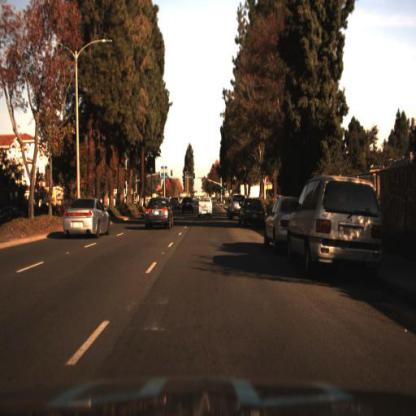car: (285, 178, 384, 281), (264, 195, 305, 250), (64, 197, 113, 241), (142, 196, 177, 231), (238, 197, 264, 228), (229, 195, 246, 224), (198, 197, 216, 219), (181, 195, 196, 216), (170, 196, 184, 217)
